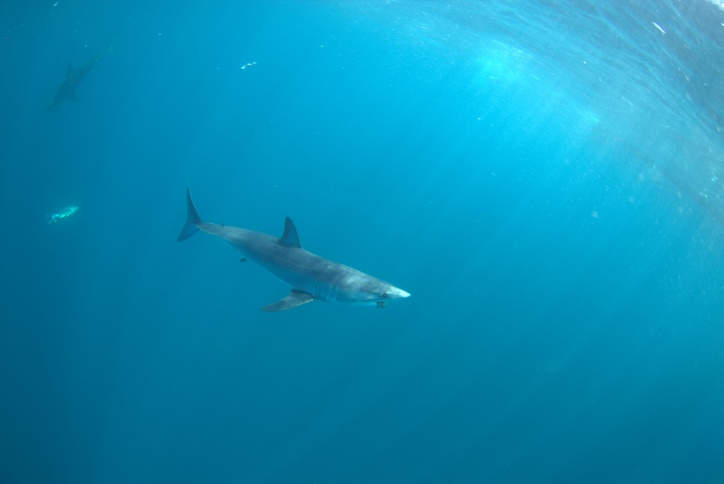Mako: (158, 176, 437, 326)
